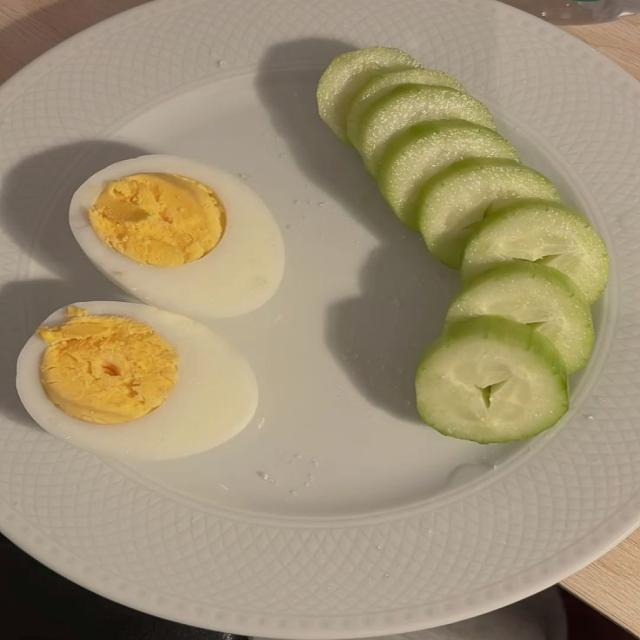cucumber sliced: (416, 316, 568, 443), (447, 262, 594, 374), (418, 159, 561, 269), (377, 120, 518, 230), (460, 200, 609, 304), (356, 83, 496, 178), (317, 47, 421, 141), (347, 66, 464, 136)
egg boiled: (17, 302, 258, 460), (69, 155, 284, 318)
